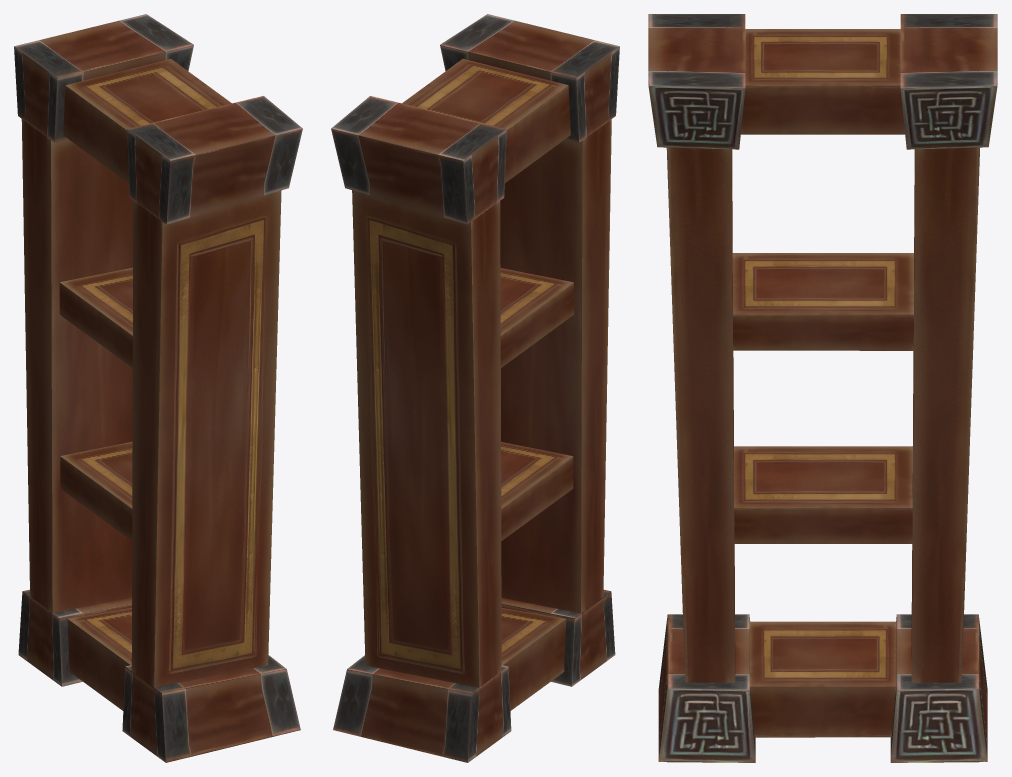
Rendered from bookshelfdwarvenaverage02.obj.
The picture shows the model from 3 angles, left to right: view 1: azimuth 30°, elevation 25°; view 2: azimuth 150°, elevation 25°; view 3: azimuth 270°, elevation 25°; orthographic projection. The views are drawn at different scales.
Parts seen in each view (by area): view 1: bookshelfdwarvenaverage02; view 2: bookshelfdwarvenaverage02; view 3: bookshelfdwarvenaverage02.
Boxes of the visible parts, x1=… form: bookshelfdwarvenaverage02: x1=14, y1=14, x2=302, y2=762; bookshelfdwarvenaverage02: x1=331, y1=14, x2=619, y2=762; bookshelfdwarvenaverage02: x1=648, y1=14, x2=997, y2=762.
Bounding box in the file's own units: 0.8333 × 3.53 × 1.65.
Materials: 1 (1 with a texture image).
